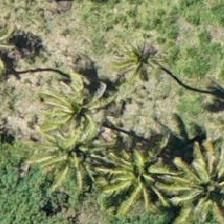coconut_tree: (90, 15, 180, 105), (22, 55, 112, 145), (11, 111, 101, 201), (89, 127, 179, 217), (161, 143, 223, 223)
